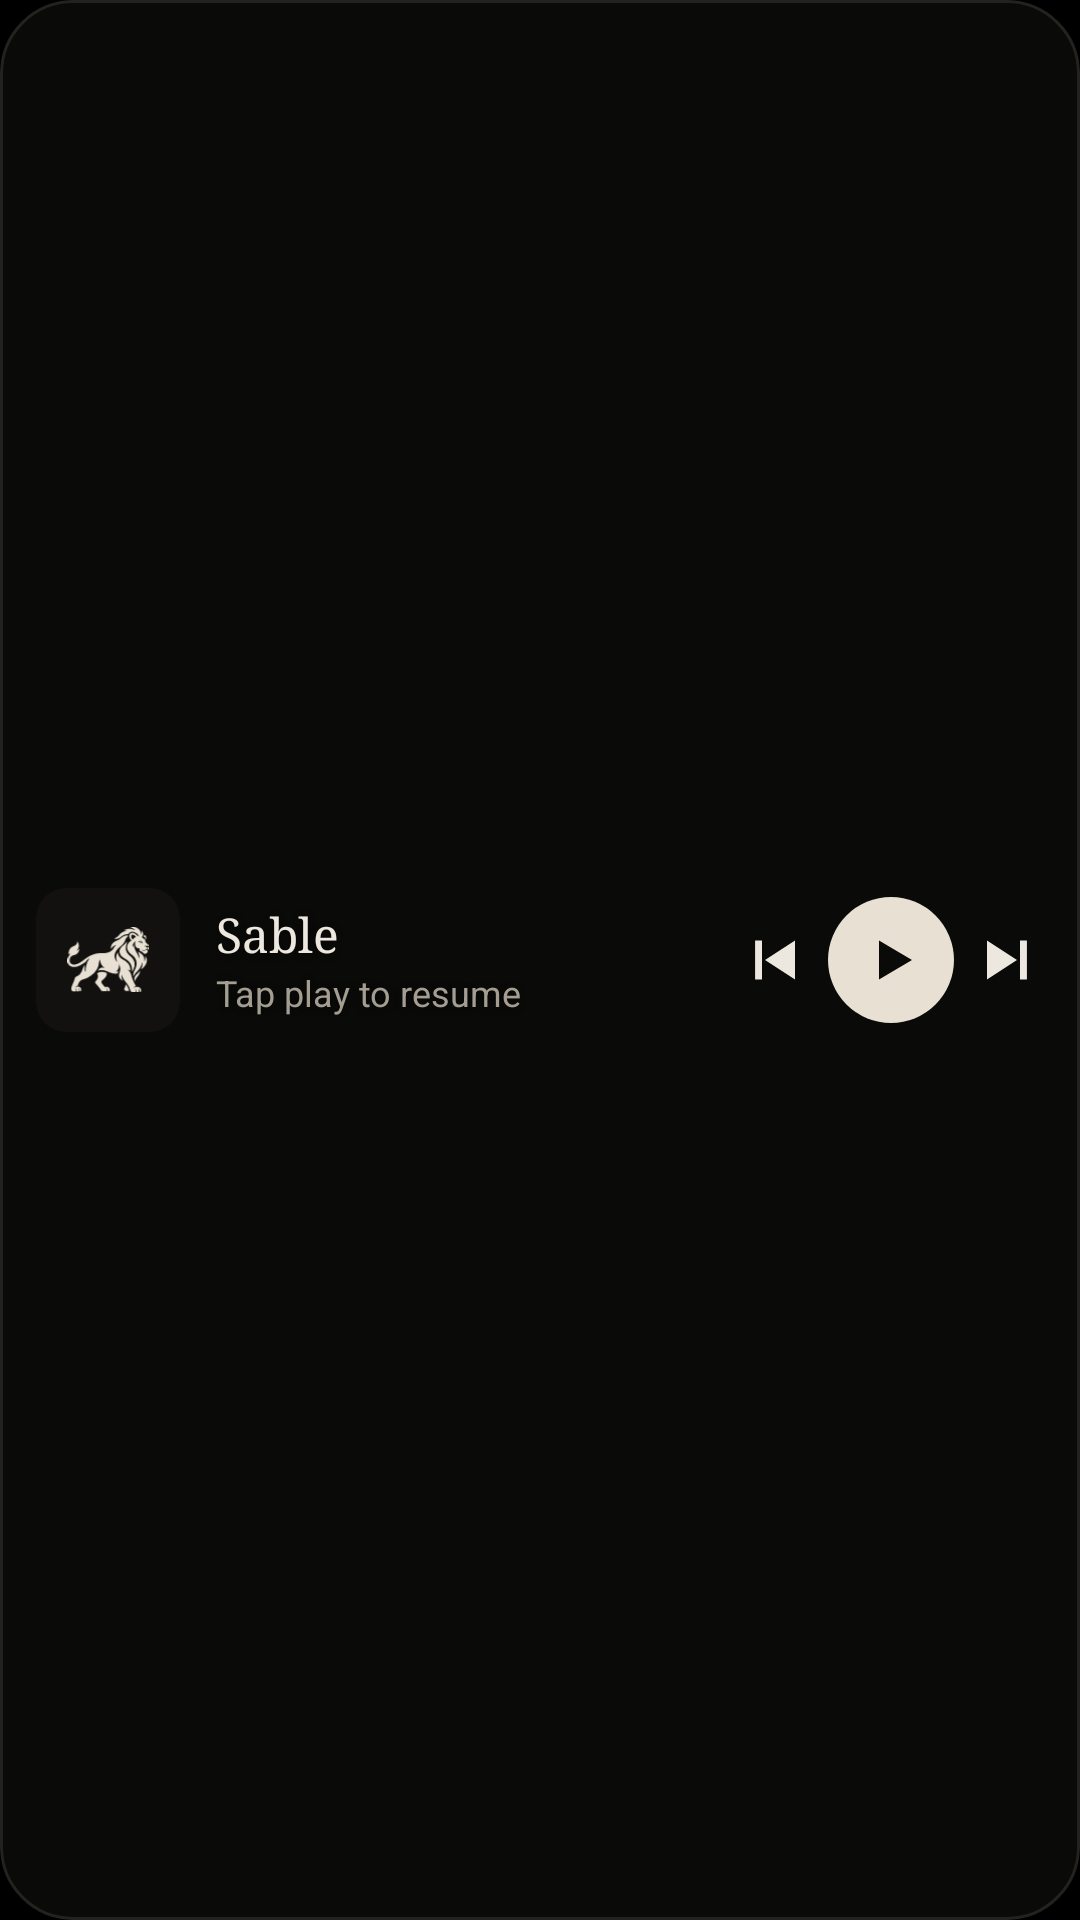

Named icons in this screenshot (1080w x 1920h) and their bounding boxes, (x1,y1,x2,y2):
Next song: (987,940,1027,980)
Play or pause: (828,897,954,1023)
Previous song: (755,940,795,980)
